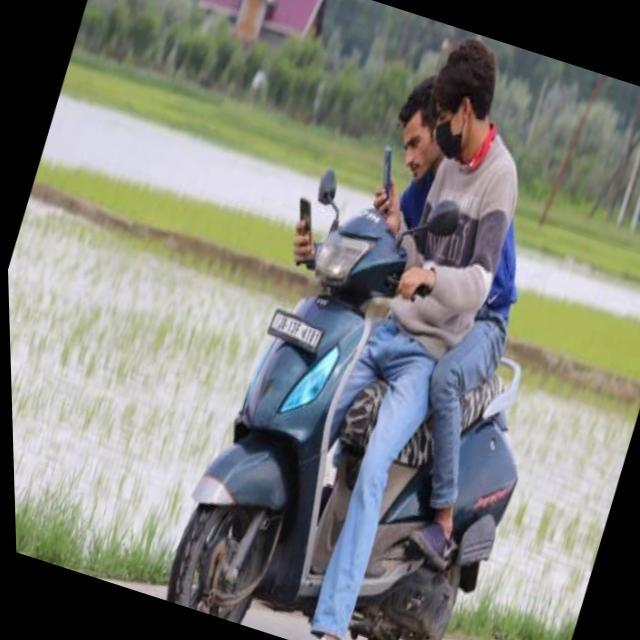Nonhelmet: (427, 34, 506, 166), (392, 73, 441, 182)
